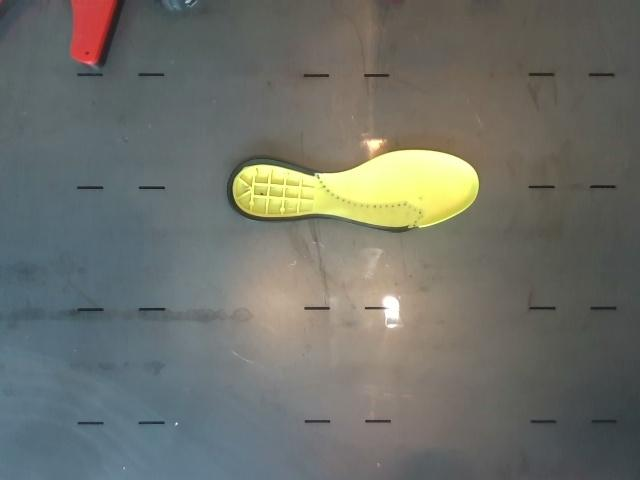shoes: (228, 151, 479, 233)
